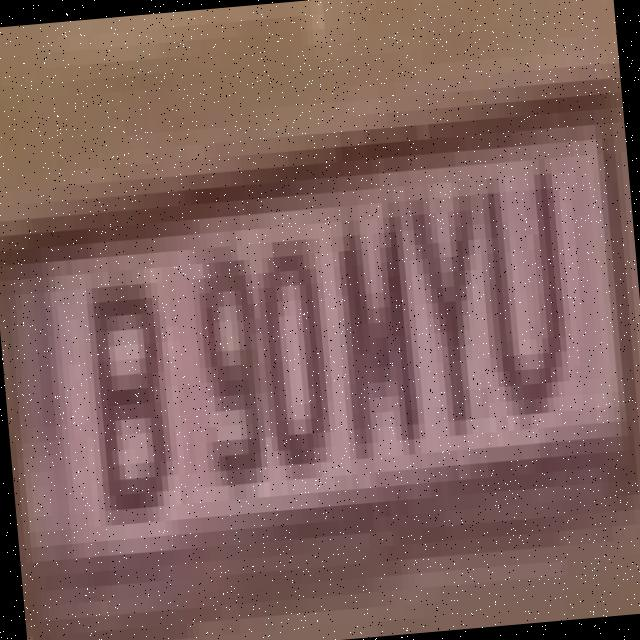Autre: (0, 119, 640, 579)
